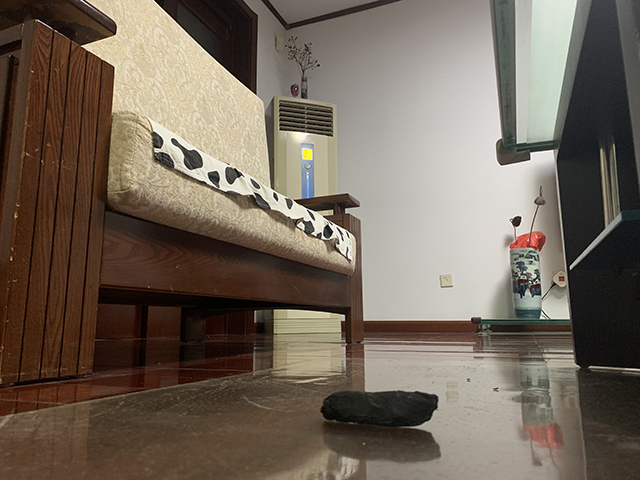feces: (319, 389, 441, 428)
sofa: (1, 1, 366, 392)
